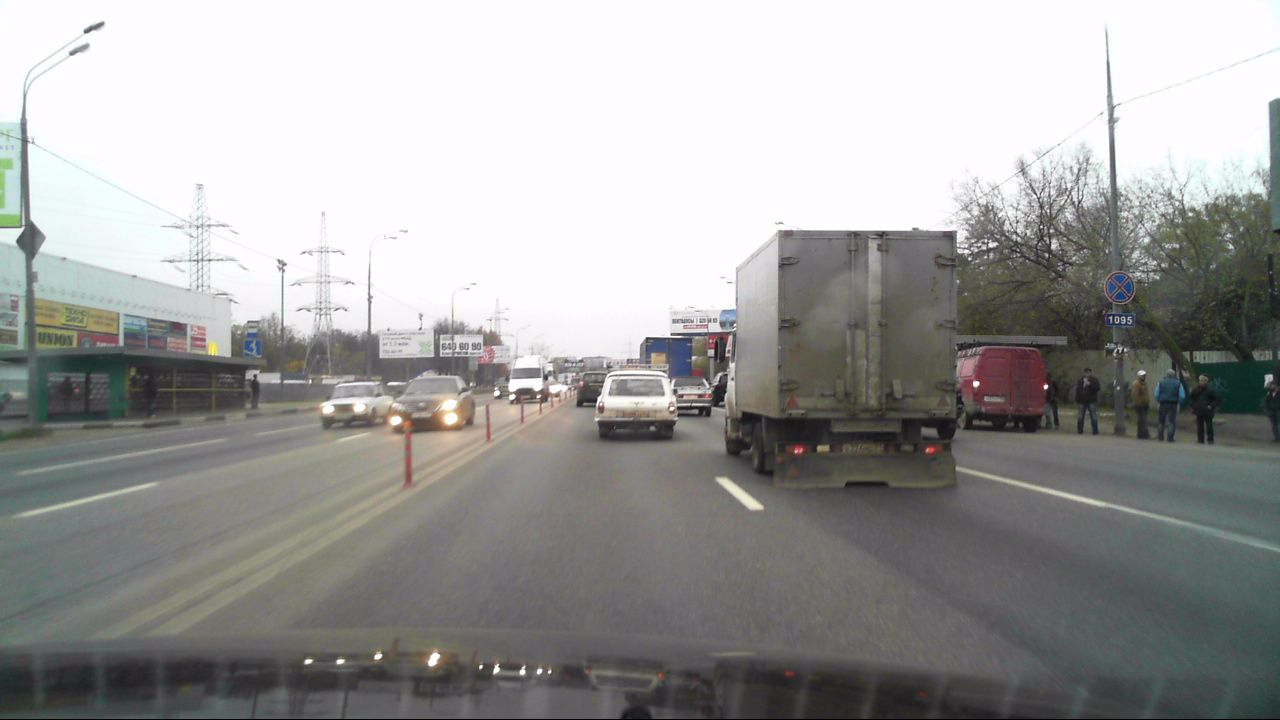No Parking: (1103, 270, 1136, 305)
